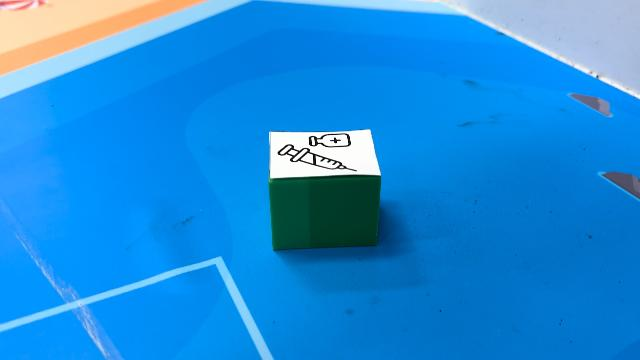syringe: (269, 128, 381, 252)
